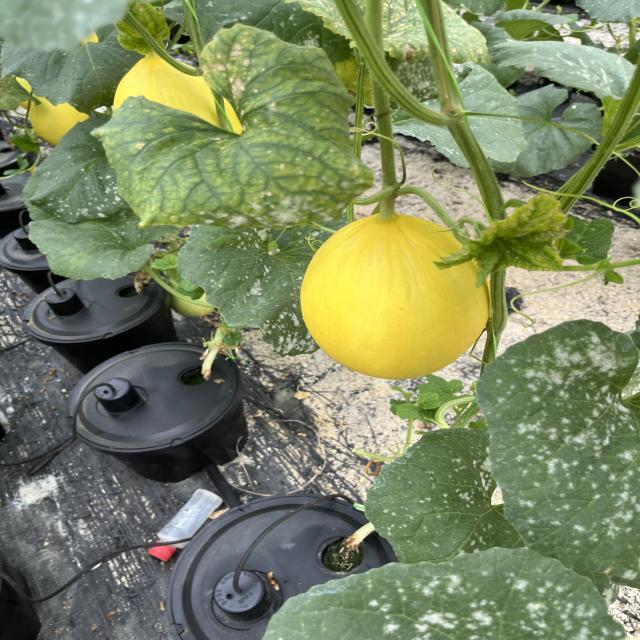CMV: (90, 19, 378, 224), (280, 0, 492, 69), (436, 188, 574, 287)
powdery mildew: (469, 316, 640, 579), (250, 543, 630, 640), (176, 209, 360, 356), (363, 422, 533, 567), (492, 33, 640, 142), (390, 61, 528, 172), (29, 111, 132, 224), (34, 207, 182, 282)
